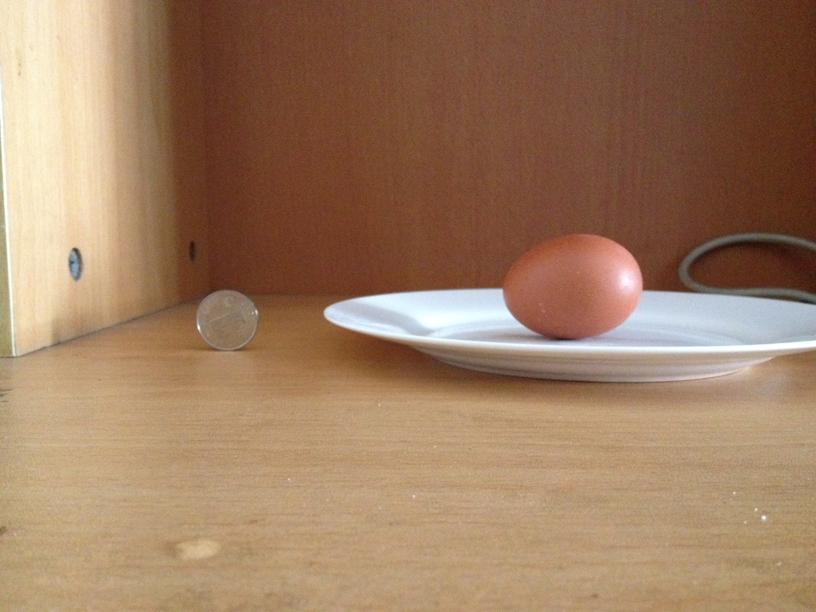coin: (193, 284, 258, 353)
egg: (501, 231, 641, 336)
